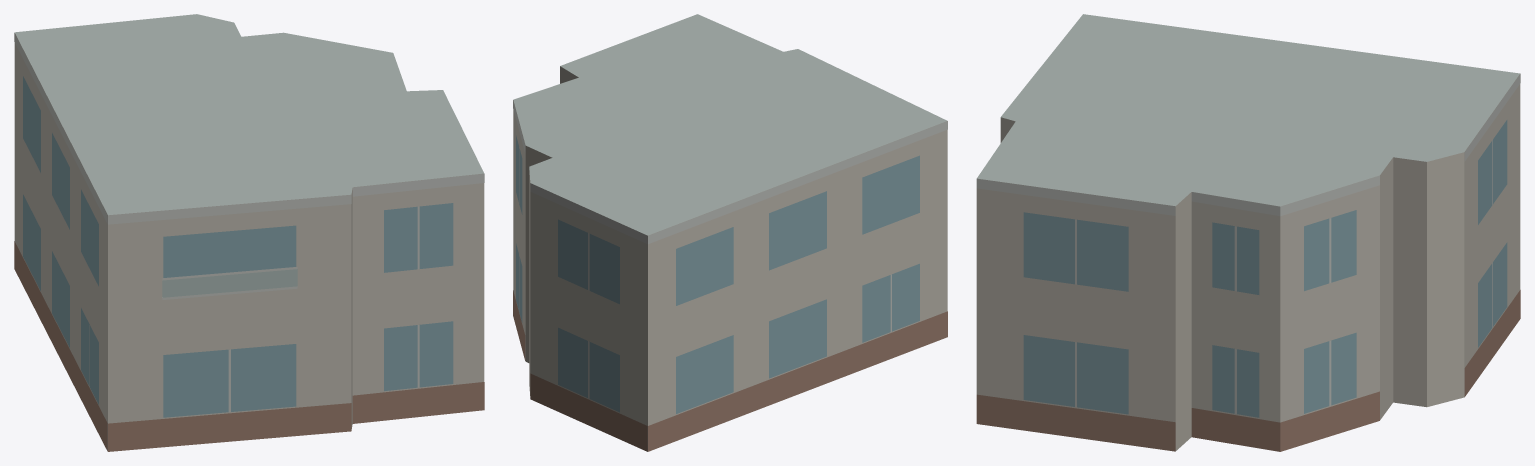
File: survey-upis-32678324.glb
The picture shows the model from 3 angles, left to right: view 1: azimuth 30°, elevation 25°; view 2: azimuth 150°, elevation 25°; view 3: azimuth 270°, elevation 25°; orthographic projection. The views are drawn at different scales.
Parts seen in each view (by area): view 1: survey-upis-32678324.tmp; view 2: survey-upis-32678324.tmp; view 3: survey-upis-32678324.tmp.
Boxes of the visible parts, x1=… form: survey-upis-32678324.tmp: x1=14, y1=14, x2=484, y2=451; survey-upis-32678324.tmp: x1=513, y1=14, x2=947, y2=451; survey-upis-32678324.tmp: x1=976, y1=14, x2=1520, y2=451.
Bounding box in the file's own units: 10.27 × 6.1 × 12.26.
